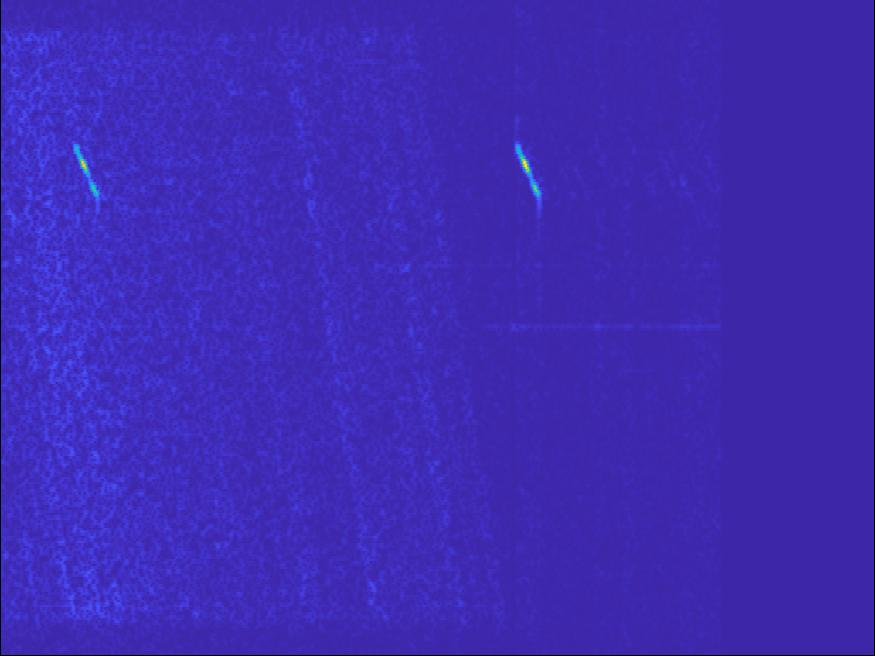Interference: (722, 302, 848, 356), (385, 594, 464, 634)
